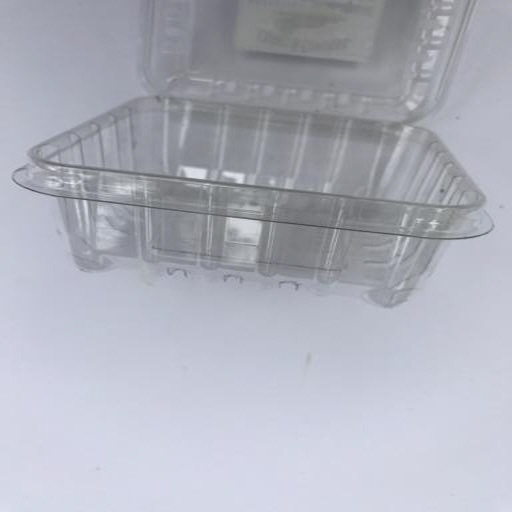Plastic_4: (10, 1, 495, 308)
